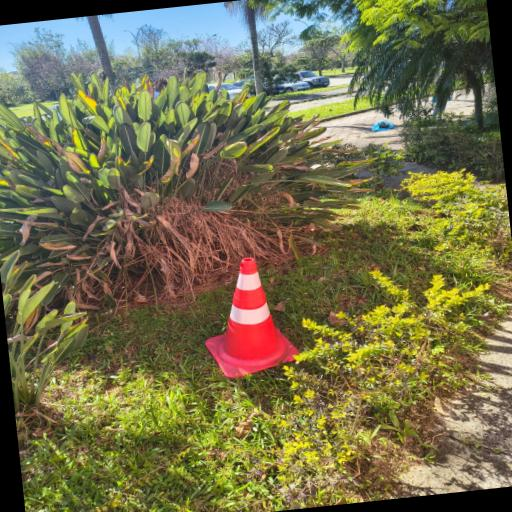cone: (194, 250, 304, 382)
